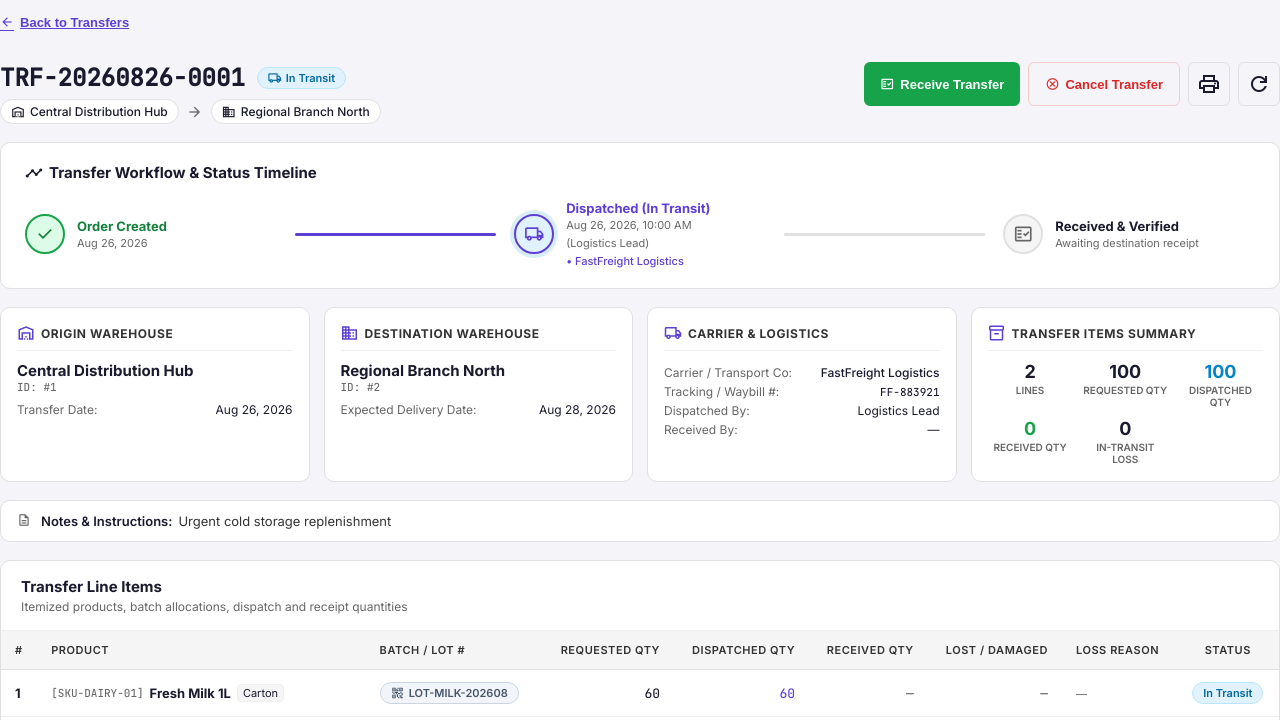
Test: StockTransferDetailView (Multi-Warehouse Transfer Execution) › handles "Reset for Scan-to-Count" action in receive modal
Step 1. Click the button "Receive Transfer" → (942, 84), box [864, 62, 1020, 106]
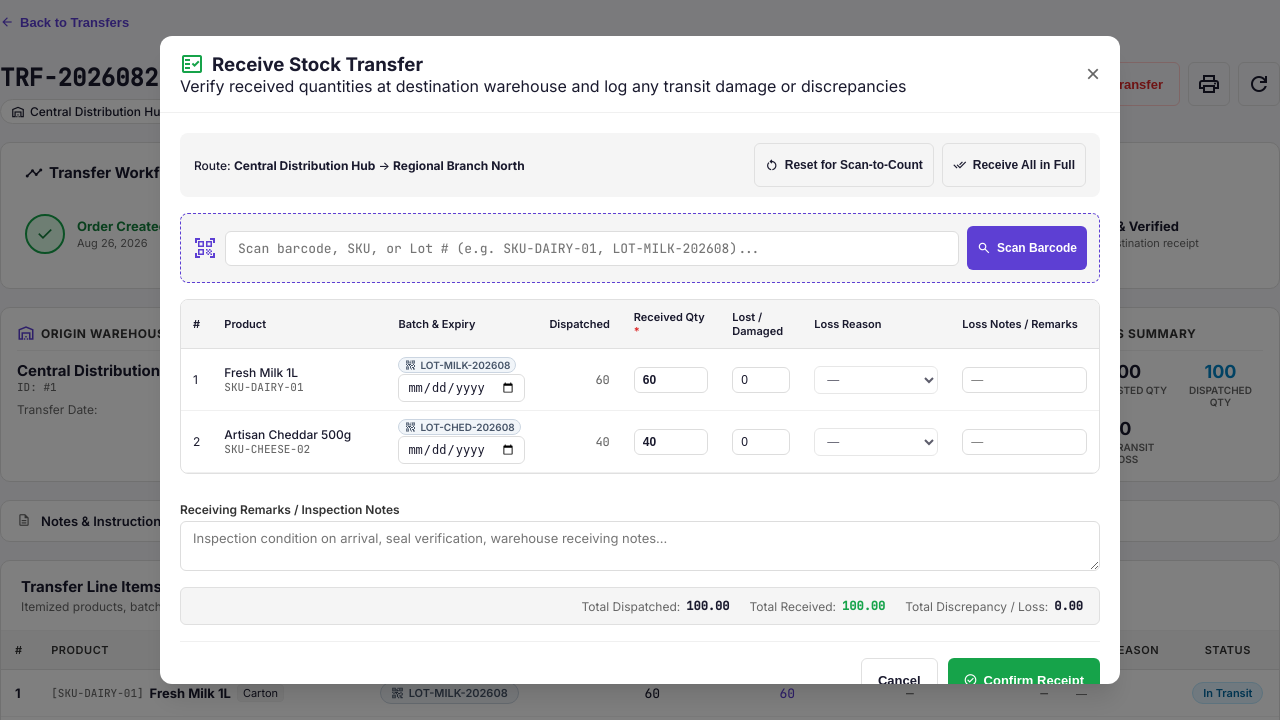
Step 2. Click the button "Reset for Scan-to-Count" → (844, 165), box [754, 143, 934, 187]
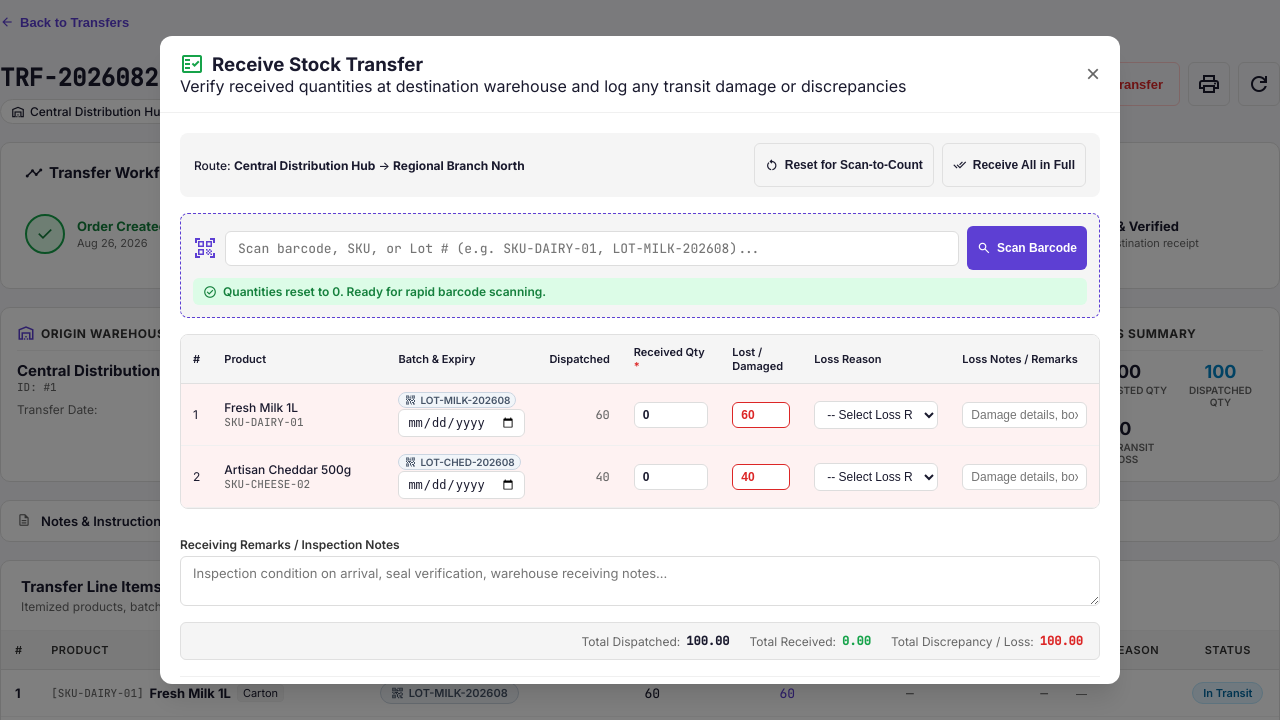
Check: the 1st number field with class "rec-qty-input" holds "0", box [634, 402, 708, 428]
Check: the 3rd number field with class "rec-qty-input" holds "0", box [634, 464, 708, 490]
Check: the 2nd number field with class "lost-qty-input" holds "60", box [732, 402, 790, 428]
